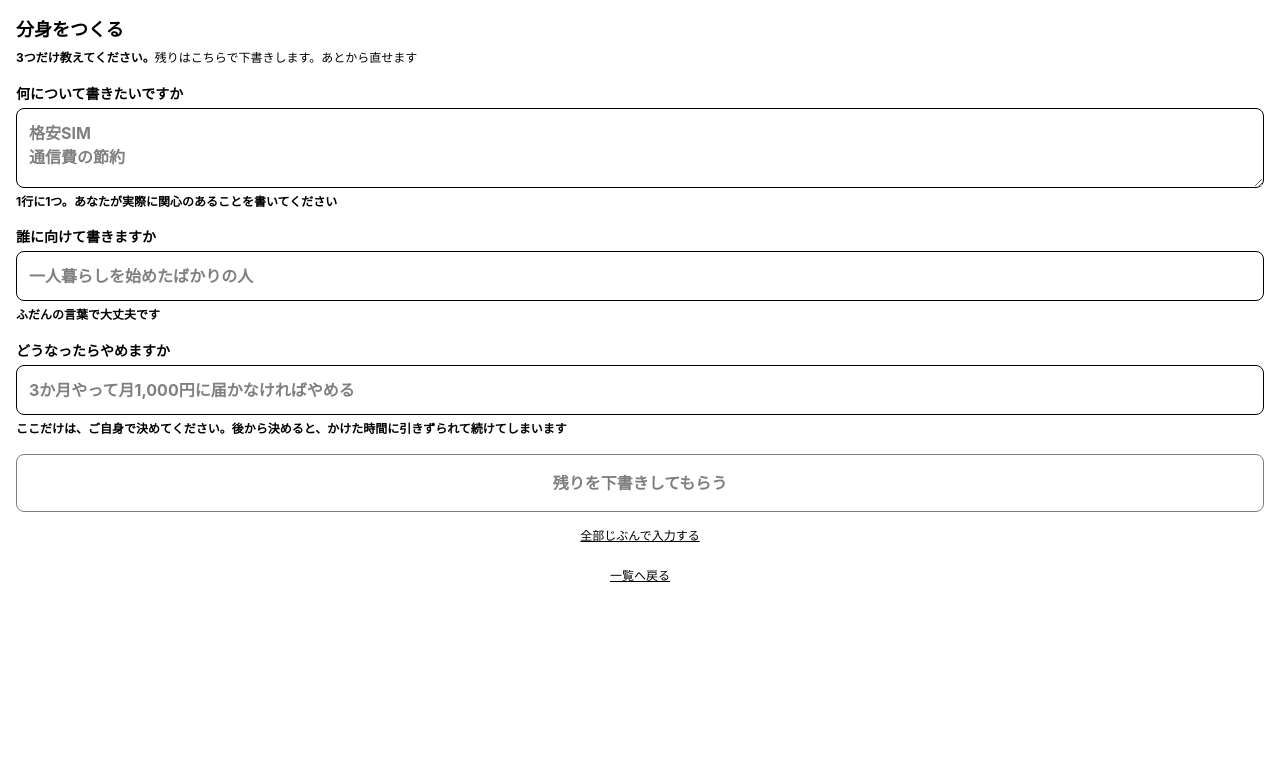
Test: じぶんで入力する › 押すと23項目の画面になる
This screenshot has width=1280, height=776.
Click the button "全部じぶんで入力する".
click(640, 536)  # box [16,528,1264,544]
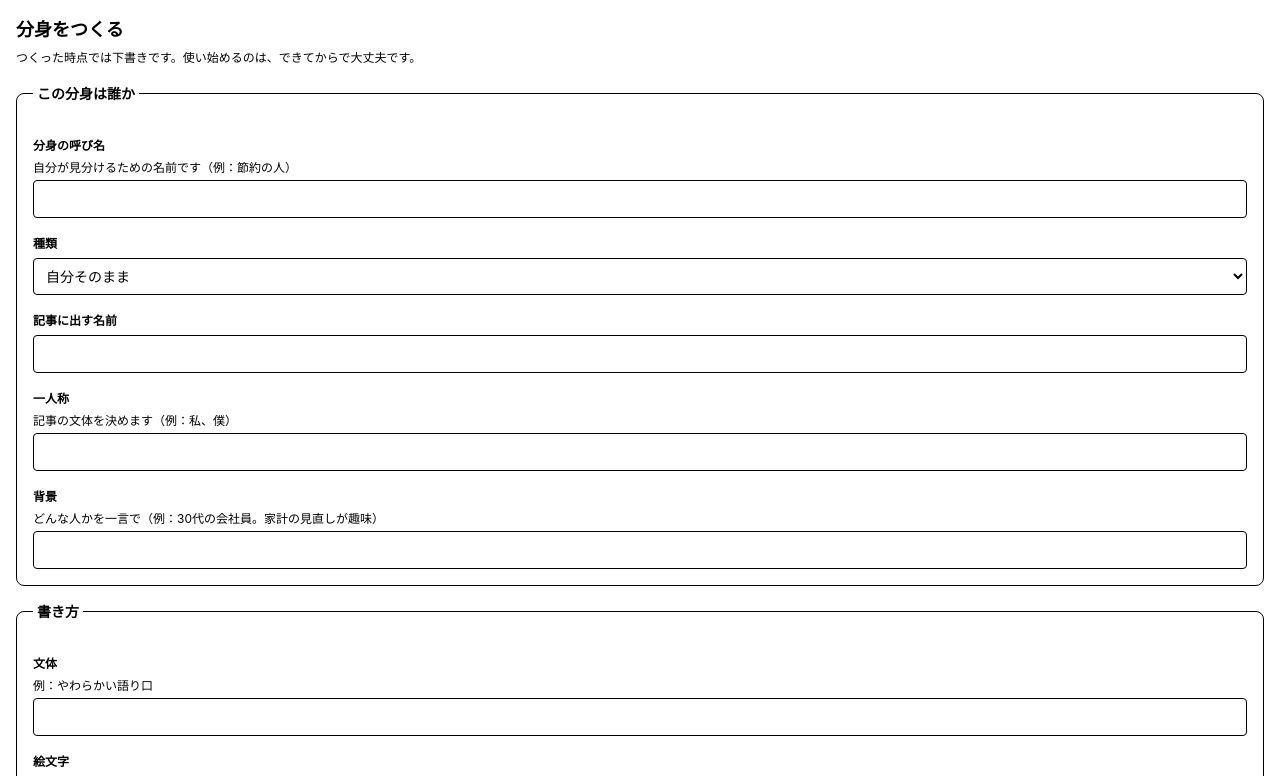
Expected: the field labelled "一人称" is shown, [33,432,1247,470]
